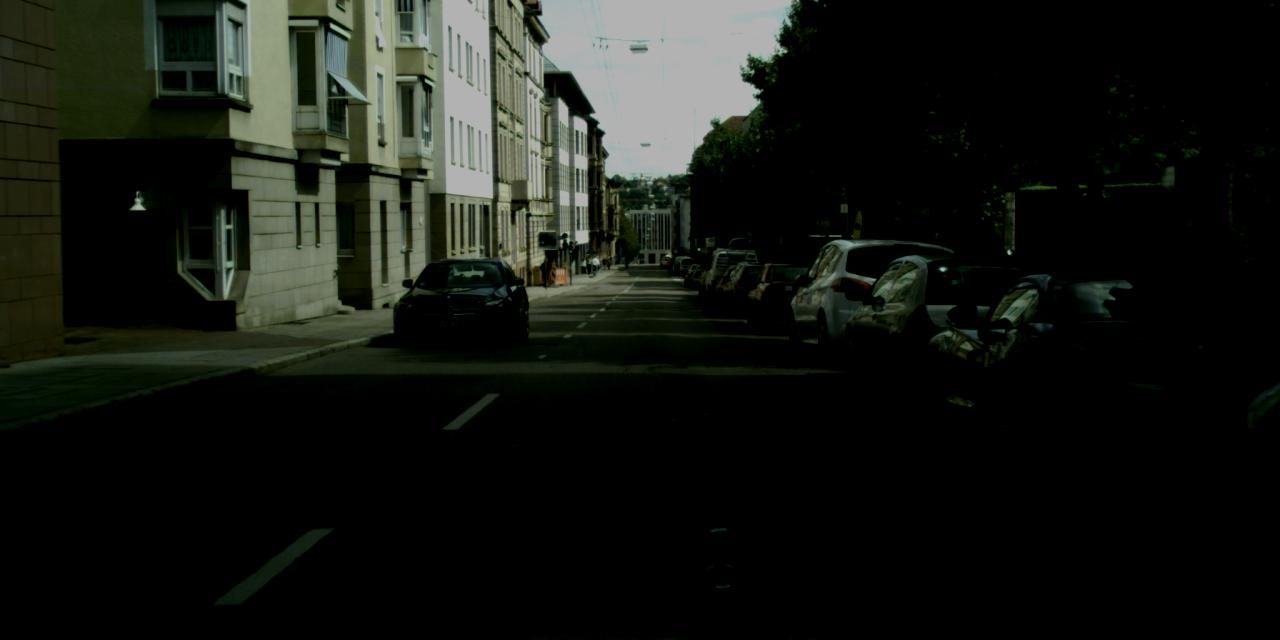ped: (590, 255, 599, 277), (667, 257, 673, 274), (933, 230, 939, 244), (672, 258, 677, 274), (600, 257, 606, 269), (581, 259, 586, 273), (586, 259, 590, 273), (606, 258, 610, 268)
